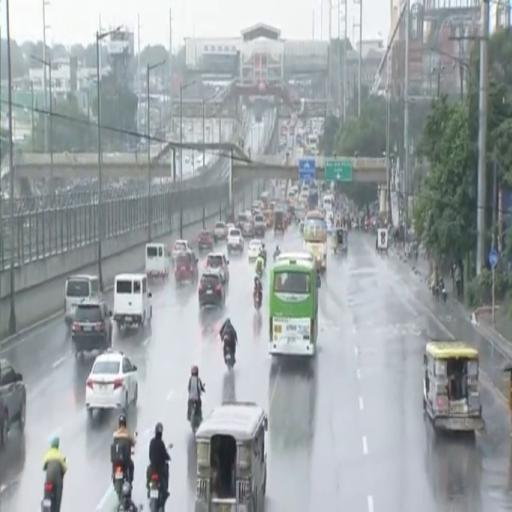bus: (269, 256, 320, 356), (303, 211, 327, 271), (304, 211, 327, 242), (306, 134, 318, 154)
car: (86, 349, 137, 417), (72, 299, 112, 357), (0, 359, 26, 445), (198, 270, 225, 309), (175, 250, 198, 283), (206, 252, 229, 282), (172, 239, 190, 262), (227, 229, 244, 253), (198, 230, 213, 251), (248, 239, 262, 261), (254, 214, 266, 237), (213, 221, 227, 239), (237, 212, 251, 229), (242, 222, 255, 238), (227, 223, 236, 233)
jeepney: (195, 403, 267, 511), (423, 342, 484, 431), (263, 210, 273, 228)
motorcycle: (113, 462, 129, 503), (149, 473, 166, 511), (41, 483, 59, 511), (223, 335, 235, 370), (190, 402, 202, 433), (438, 280, 447, 302), (254, 294, 261, 311), (432, 284, 439, 300), (256, 266, 263, 279), (274, 251, 280, 261)
